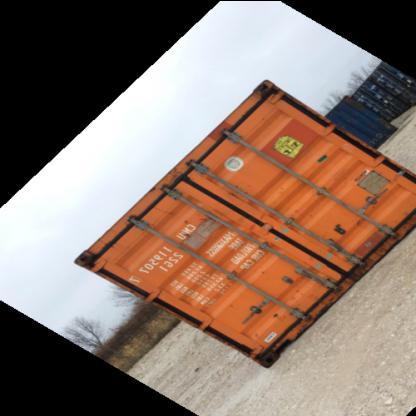Damage: (176, 205, 236, 233), (146, 158, 190, 194), (248, 77, 278, 105), (72, 247, 96, 270), (250, 254, 268, 282), (268, 304, 288, 328)
